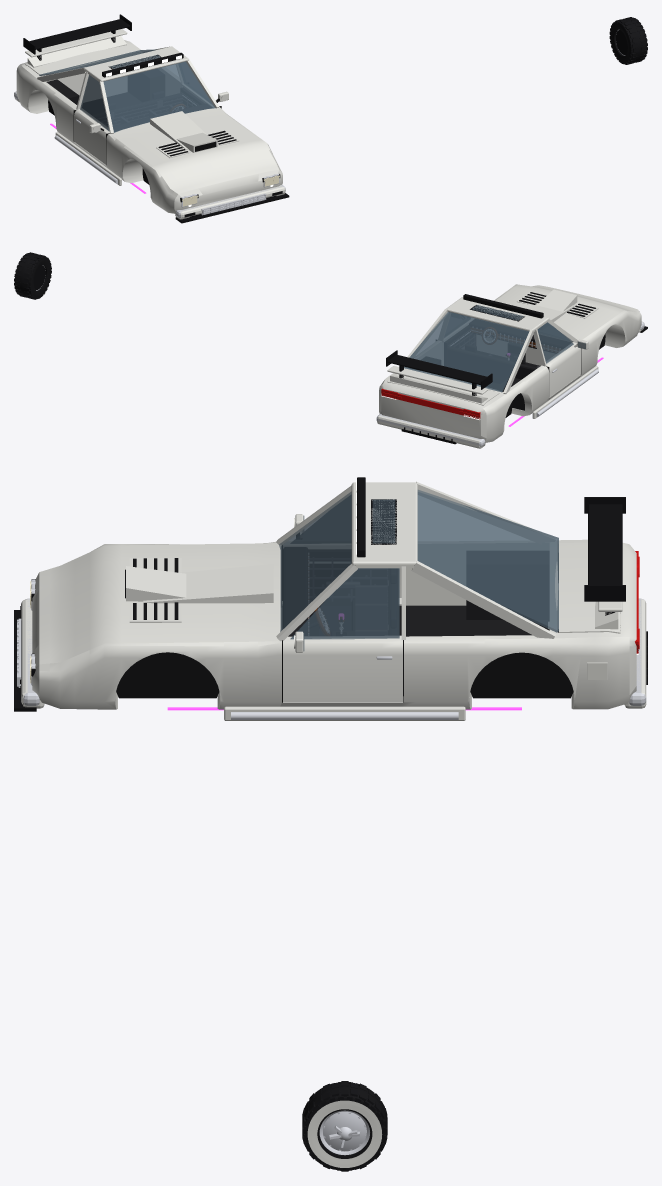
The model's file is HayatoTypeZ.glb.
3 renders of one model, top to bottom at view 1: azimuth 30°, elevation 25°; view 2: azimuth 150°, elevation 25°; view 3: azimuth 270°, elevation 25°, orthographic. The views are drawn at different scales.
Parts seen in each view (by area): view 1: HayatoTypeZ_PanelHood, HayatoTypeZ_Glass, HayatoTypeZ_Body, HayatoTypeZ_PanelSideR, HayatoTypeZ_Carpet, HayatoTypeZ_OptSpoilerGTDark, HayatoTypeZ_PanelRoof, HayatoTypeZ_PanelDoorR, HayatoTypeZ_RoofBody, HayatoTypeZWheel_TireOffroadRubber, HayatoTypeZ_Lid, HayatoTypeZ_OptHoodCowlBody (+16 smaller); view 2: HayatoTypeZ_RoofGlass__Lid, HayatoTypeZ_Body, HayatoTypeZ_PanelSideR, HayatoTypeZ_PanelHood, HayatoTypeZ_OptSeatsDiamondSeat, HayatoTypeZ_PanelRoof, HayatoTypeZ_OptSpoilerGTDark, HayatoTypeZ_RoofBody, HayatoTypeZ_PanelDoorR, HayatoTypeZWheel_TireOffroadRubber, HayatoTypeZ_OptDashBilletDash, HayatoTypeZ_RoofGlass__WinDoorR (+18 smaller); view 3: HayatoTypeZ_PanelSideL, HayatoTypeZ_PanelHood, HayatoTypeZ_RoofGlass__Lid, HayatoTypeZ_Body, HayatoTypeZ_Carpet, HayatoTypeZ_PanelDoorL, HayatoTypeZ_Under, HayatoTypeZ_Glass, HayatoTypeZ_RoofBody, HayatoTypeZ_RoofGlass__WinDoorL, HayatoTypeZ_PanelRoof, HayatoTypeZ_OptSpoilerGTDark (+15 smaller).
Boxes of the visible parts, bbox=[...] form: HayatoTypeZ_PanelHood: bbox=[111, 108, 280, 197]; HayatoTypeZ_Glass: bbox=[103, 61, 215, 132]; HayatoTypeZ_Body: bbox=[20, 40, 282, 213]; HayatoTypeZ_PanelSideR: bbox=[16, 64, 176, 213]; HayatoTypeZ_Carpet: bbox=[46, 69, 164, 113]; HayatoTypeZ_OptSpoilerGTDark: bbox=[23, 14, 131, 60]; HayatoTypeZ_PanelRoof: bbox=[84, 46, 188, 81]; HayatoTypeZ_PanelDoorR: bbox=[74, 109, 109, 164]; HayatoTypeZ_RoofBody: bbox=[37, 46, 219, 133]; HayatoTypeZWheel_TireOffroadRubber: bbox=[609, 17, 647, 64]; HayatoTypeZ_Lid: bbox=[25, 42, 137, 76]; HayatoTypeZ_OptHoodCowlBody: bbox=[150, 111, 206, 149]; HayatoTypeZ_RoofGlass__Lid: bbox=[404, 311, 529, 392]; HayatoTypeZ_Body: bbox=[379, 284, 628, 440]; HayatoTypeZ_PanelSideR: bbox=[480, 311, 641, 442]; HayatoTypeZ_PanelHood: bbox=[495, 284, 639, 340]; HayatoTypeZ_OptSeatsDiamondSeat: bbox=[448, 347, 537, 383]; HayatoTypeZ_PanelRoof: bbox=[446, 297, 549, 331]; HayatoTypeZ_OptSpoilerGTDark: bbox=[386, 350, 492, 395]; HayatoTypeZ_RoofBody: bbox=[407, 309, 577, 393]; HayatoTypeZ_PanelDoorR: bbox=[546, 342, 580, 396]; HayatoTypeZWheel_TireOffroadRubber: bbox=[14, 252, 51, 299]; HayatoTypeZ_OptDashBilletDash: bbox=[469, 319, 570, 364]; HayatoTypeZ_RoofGlass__WinDoorR: bbox=[537, 322, 573, 363]; HayatoTypeZ_PanelSideL: bbox=[39, 637, 636, 709]; HayatoTypeZ_PanelHood: bbox=[32, 543, 278, 671]; HayatoTypeZ_RoofGlass__Lid: bbox=[417, 490, 558, 632]; HayatoTypeZ_Body: bbox=[32, 539, 636, 709]; HayatoTypeZ_Carpet: bbox=[319, 551, 549, 695]; HayatoTypeZ_PanelDoorL: bbox=[283, 635, 402, 701]; HayatoTypeZ_Under: bbox=[116, 631, 573, 698]; HayatoTypeZ_Glass: bbox=[279, 491, 351, 631]; HayatoTypeZ_RoofBody: bbox=[276, 481, 555, 641]; HayatoTypeZ_RoofGlass__WinDoorL: bbox=[290, 568, 399, 639]; HayatoTypeZ_PanelRoof: bbox=[351, 482, 417, 565]; HayatoTypeZ_OptSpoilerGTDark: bbox=[584, 497, 625, 615].
Bounding box in the file's own units: 35.01 × 6.73 × 18.26.
